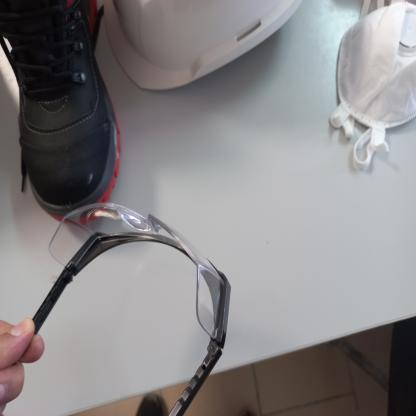boots: (1, 0, 118, 208)
goggles: (63, 204, 245, 386)
mask: (338, 0, 416, 143)
